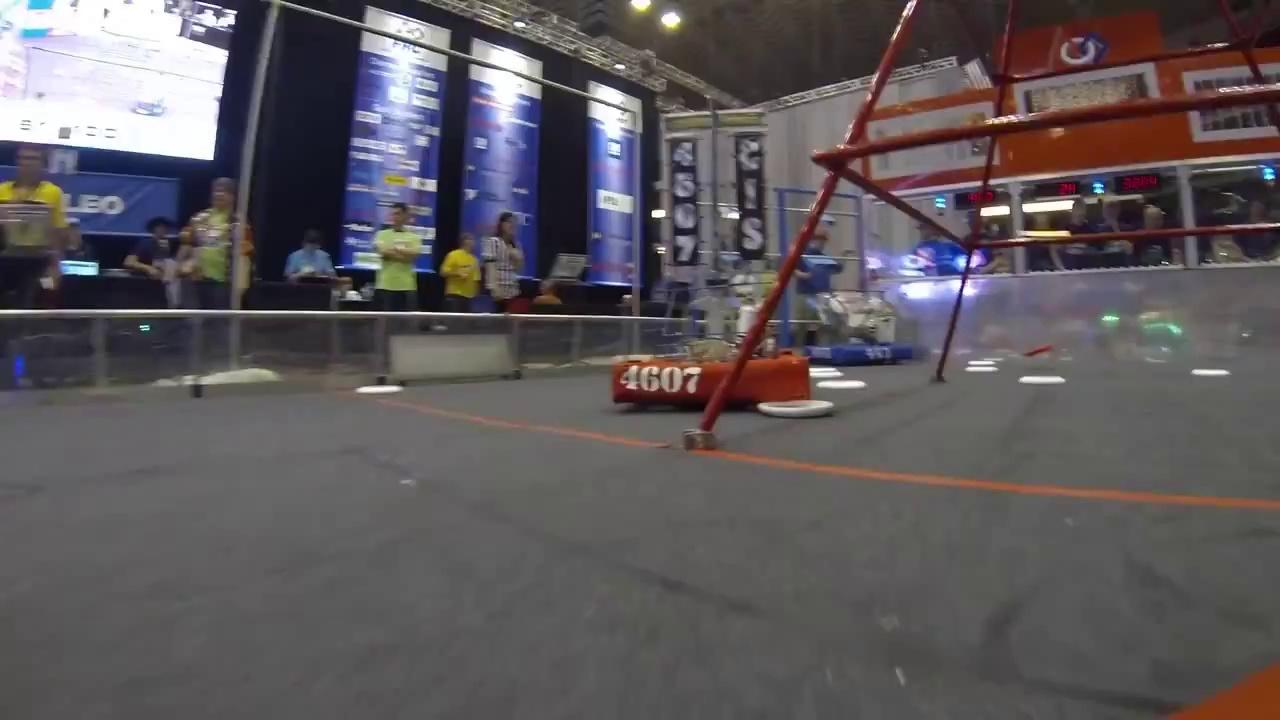robot: (610, 102, 817, 408), (795, 284, 925, 368)
